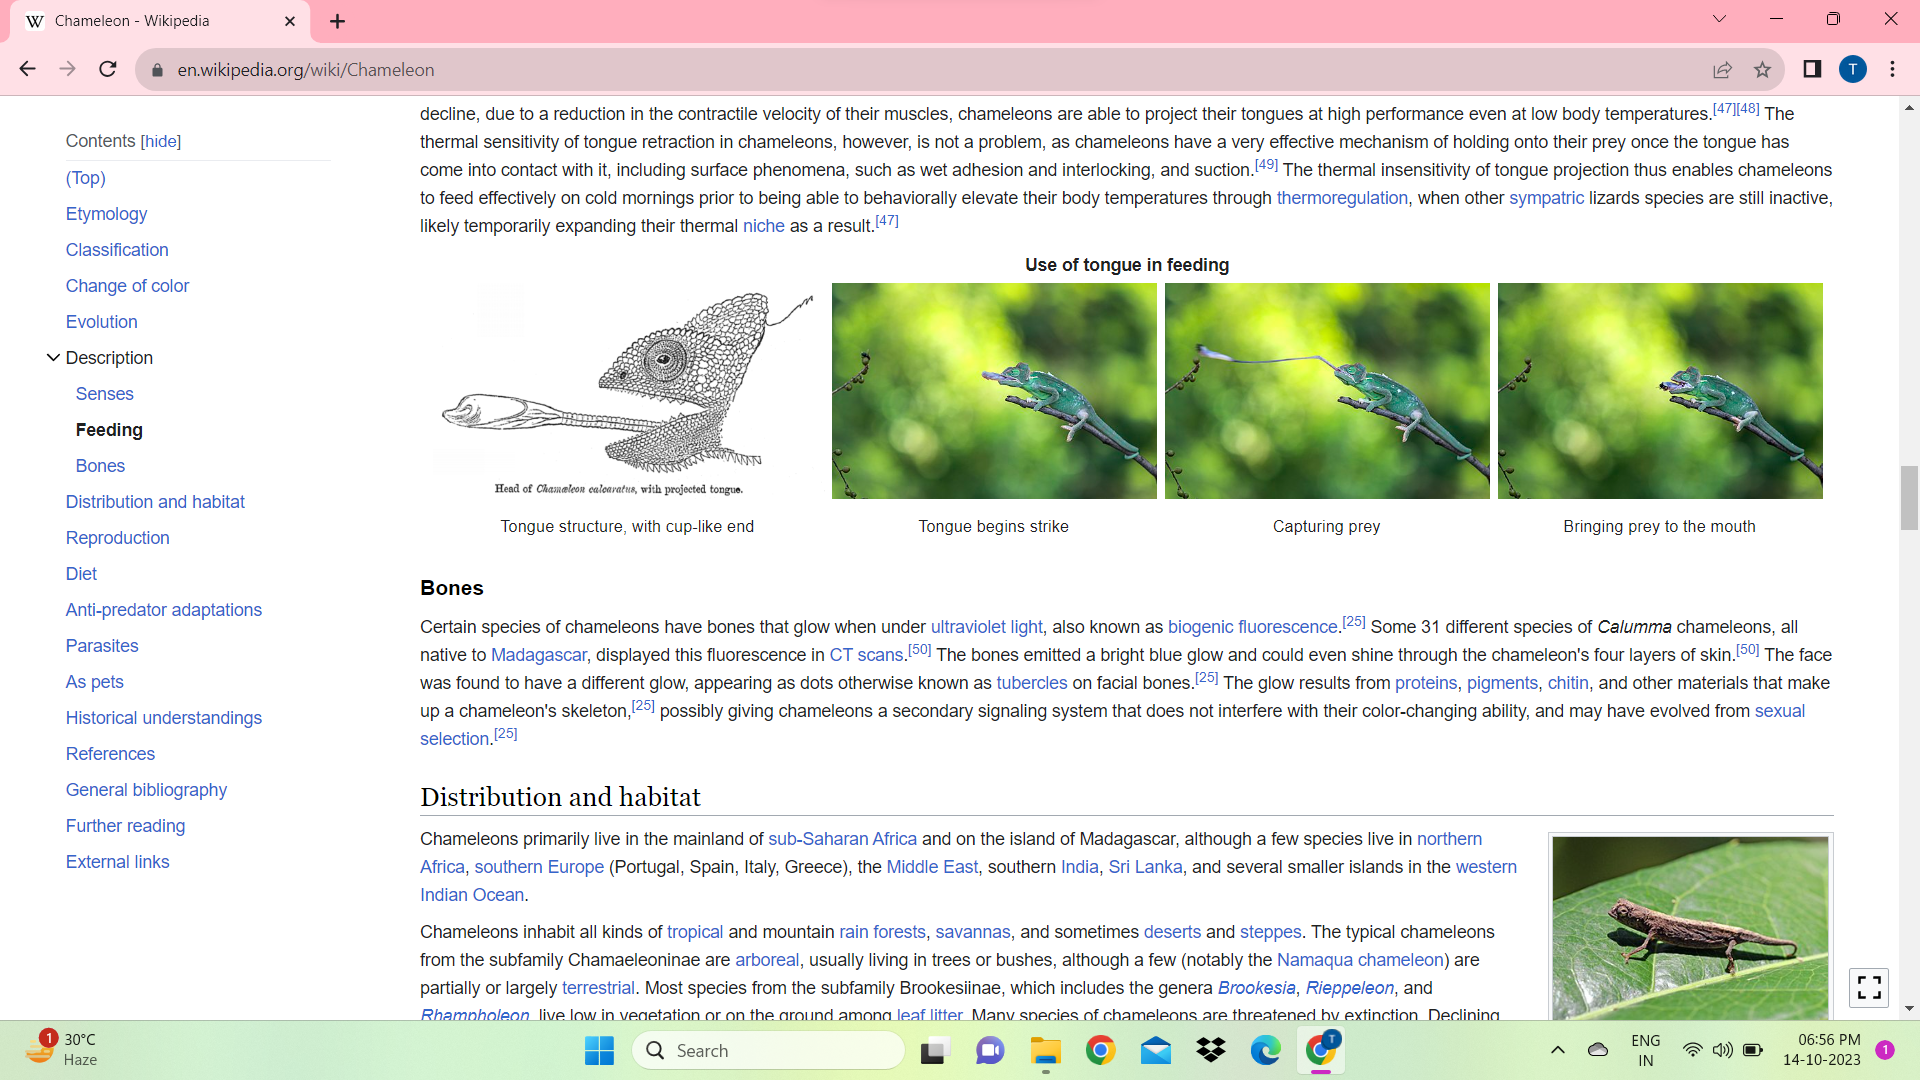Image: (386, 261, 818, 505), (822, 274, 1159, 501), (1495, 269, 1829, 498), (1171, 272, 1490, 509), (1540, 831, 1840, 1021)
Paragraph: (414, 99, 1840, 237), (406, 615, 1855, 746), (400, 919, 1510, 1022), (400, 811, 1523, 906), (47, 692, 302, 737), (1004, 245, 1249, 289), (1551, 505, 1778, 549), (406, 773, 715, 804), (50, 108, 190, 160), (909, 509, 1083, 546), (58, 844, 194, 885), (1249, 513, 1404, 549), (51, 233, 194, 269), (407, 556, 505, 607), (54, 522, 190, 556), (58, 411, 166, 442)
